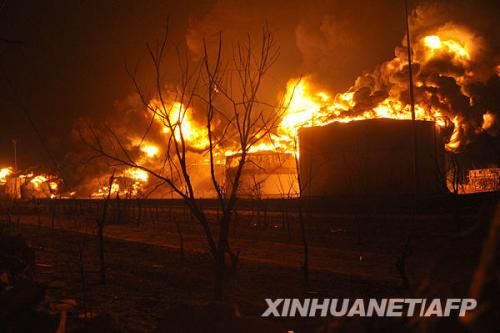fire: (270, 80, 335, 122), (164, 101, 196, 136)
yanwu: (348, 16, 472, 116)
